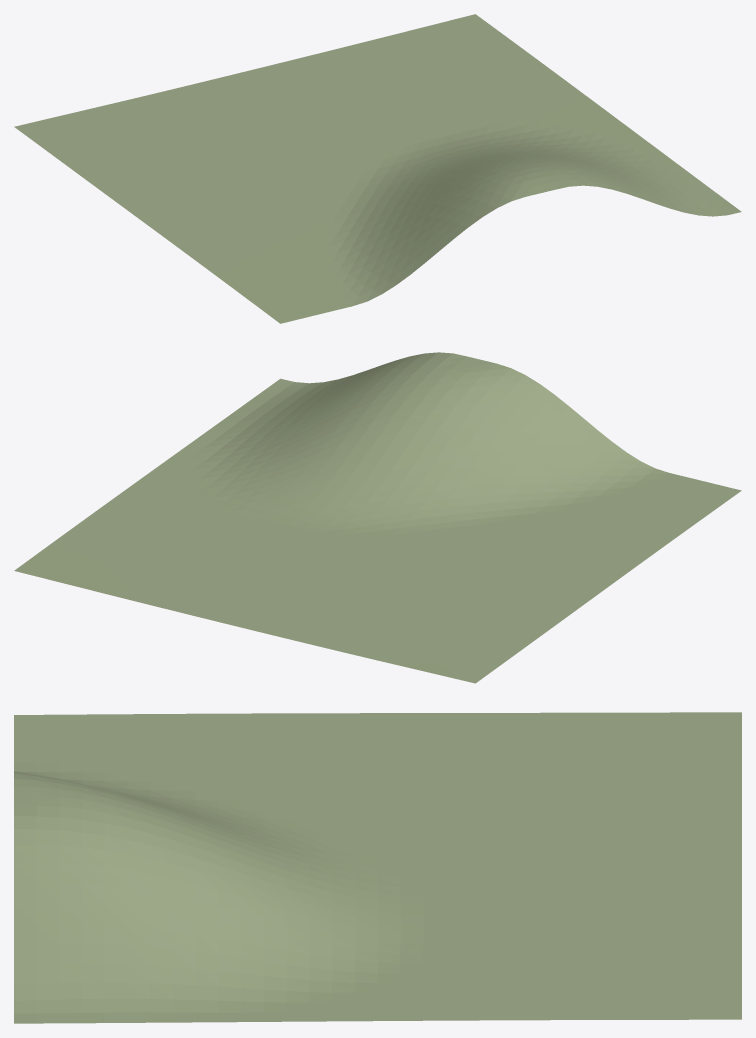
File: desert-11-10.glb
3 renders of one model, top to bottom at view 1: azimuth 30°, elevation 25°; view 2: azimuth 150°, elevation 25°; view 3: azimuth 270°, elevation 25°, orthographic. The views are drawn at different scales.
Parts seen in each view (by area): view 1: desert-11-10; view 2: desert-11-10; view 3: desert-11-10.
Boxes of the visible parts, box(x1,y1,x2,y2) form: desert-11-10: box(14, 14, 741, 323); desert-11-10: box(14, 352, 741, 683); desert-11-10: box(14, 712, 741, 1023).
Size of the model in its own units: 512 by 71.99 by 512.
